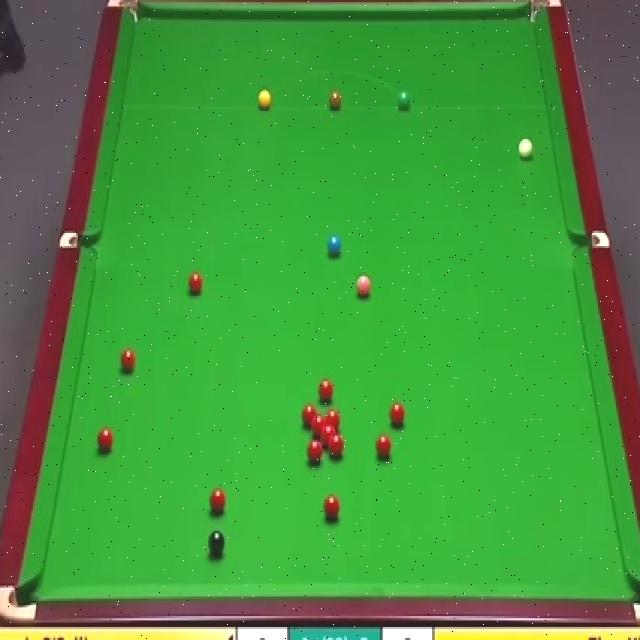black-ball: (208, 531, 226, 561)
blue-ball: (326, 233, 342, 258)
brown-ball: (328, 88, 342, 110)
green-ball: (396, 91, 411, 112)
pink-ball: (356, 274, 372, 297)
red-ball: (388, 402, 407, 432), (374, 433, 393, 462), (97, 424, 114, 454), (118, 349, 136, 377), (323, 493, 340, 522), (210, 487, 227, 514), (307, 438, 322, 466), (318, 379, 333, 405), (301, 403, 316, 428), (329, 434, 344, 458), (188, 271, 203, 294), (326, 409, 340, 431), (312, 415, 326, 435), (322, 425, 335, 445)
white-ball: (518, 135, 534, 163)
yellow-ball: (258, 89, 272, 112)
